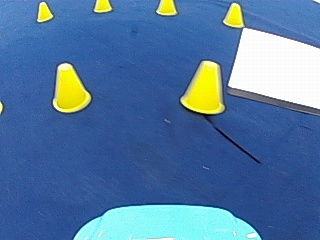cone: (180, 58, 225, 114), (51, 62, 90, 112), (222, 2, 244, 27), (36, 1, 53, 22), (156, 0, 177, 15), (93, 0, 111, 12)
